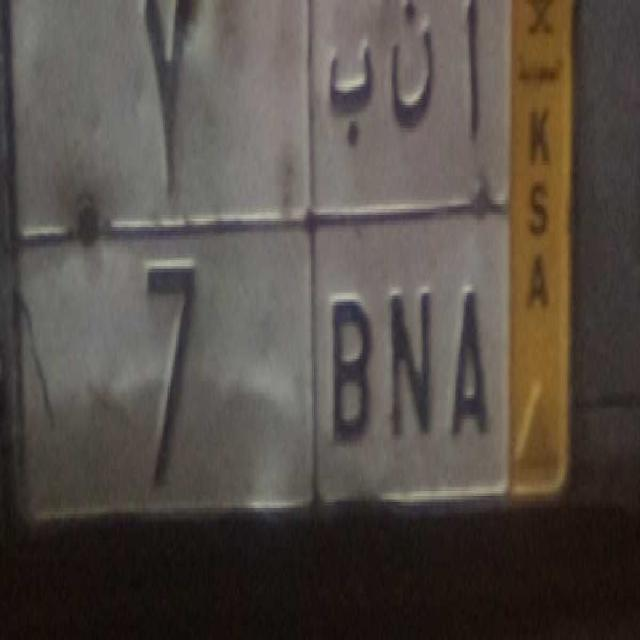license_plate: (6, 210, 510, 513)
